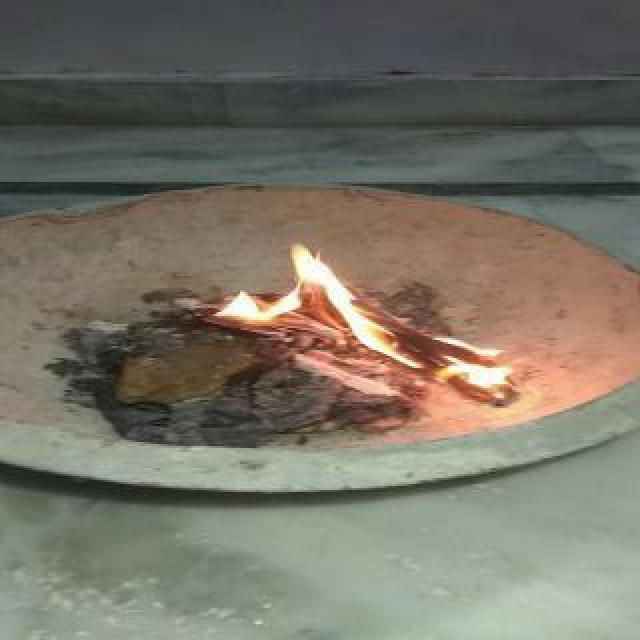Fire: (208, 240, 520, 406)
